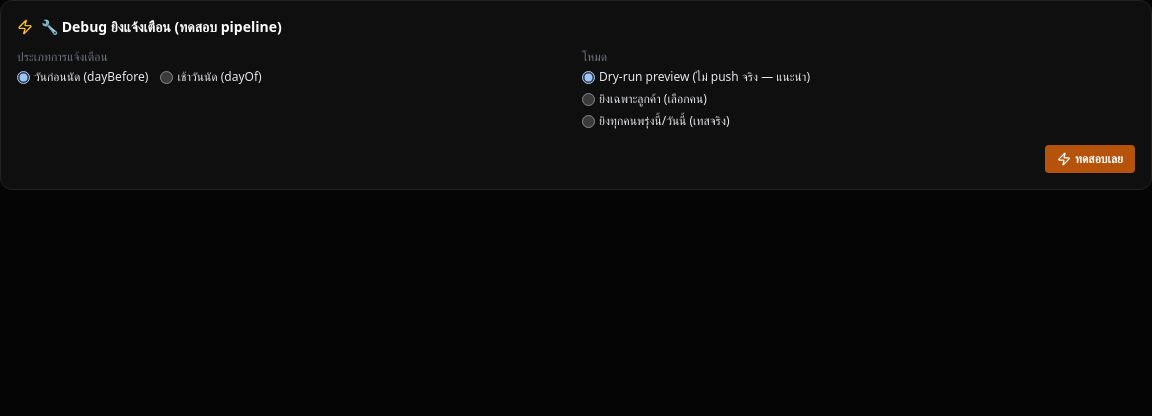
Scenario: V69 Bug B — UI reads result.results.{sent,skipped,failed} (not root) › B.1 single-mode response with results.sent=1 displays Sent: 1 (NOT 0)
Click the radio button labelled "ยิงเฉพาะลูกค้า (เลือกคน)": x=588, y=99 [582, 92, 595, 106]
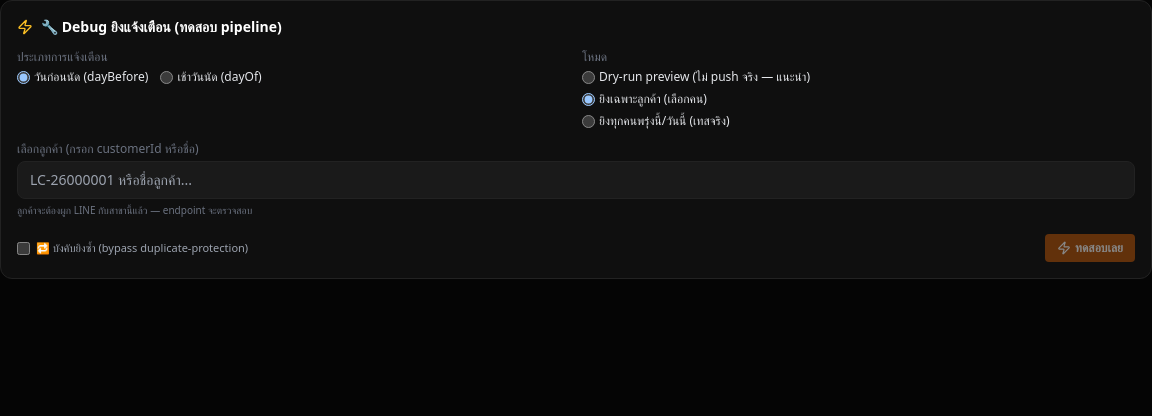
In the field with placeholder "LC-26000001 หรือชื่อลูกค้า...": x=576, y=180 [17, 161, 1135, 199], type "000004"
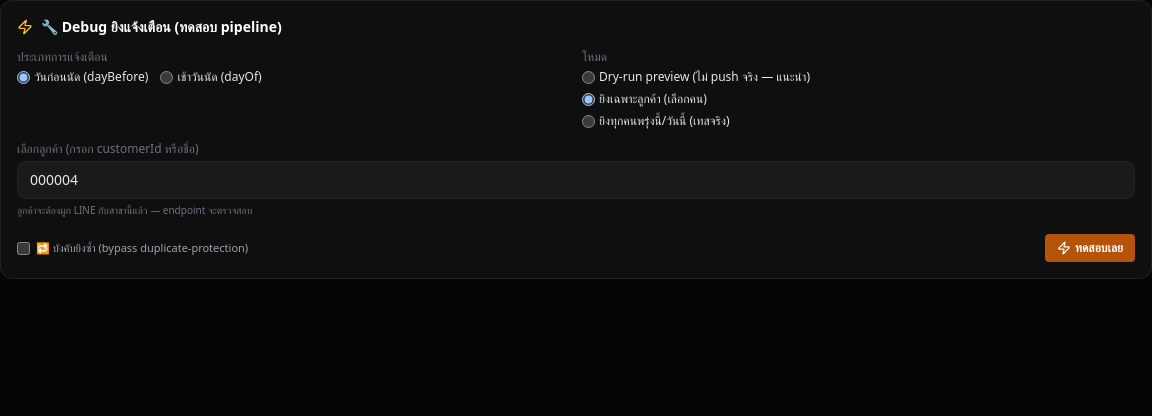
Click the button with test id "debug-fire-button": x=1090, y=248 [1045, 234, 1135, 262]
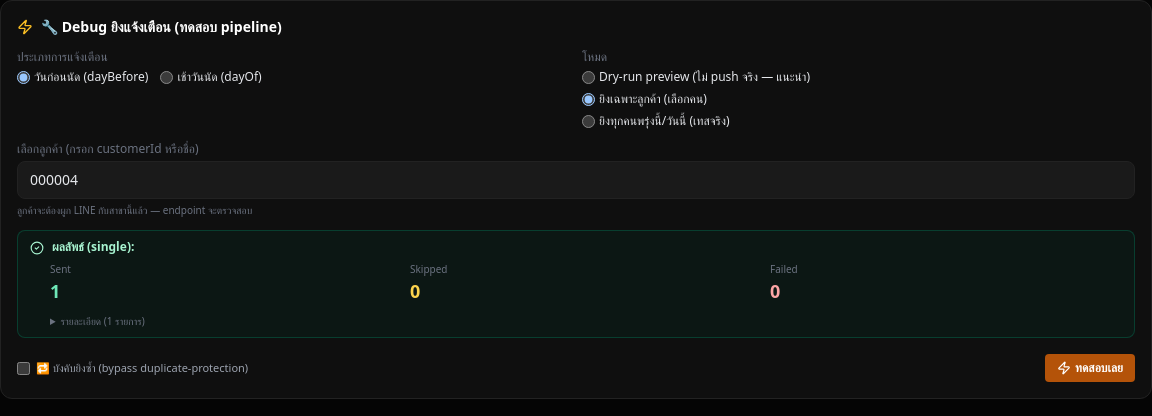
Expected: the text with test id "debug-fire-sent" reads "1", [50, 279, 60, 303]
Expected: the text with test id "debug-fire-skipped" reads "0", [410, 279, 420, 303]
Expected: the text with test id "debug-fire-failed" reads "0", [770, 279, 780, 303]
